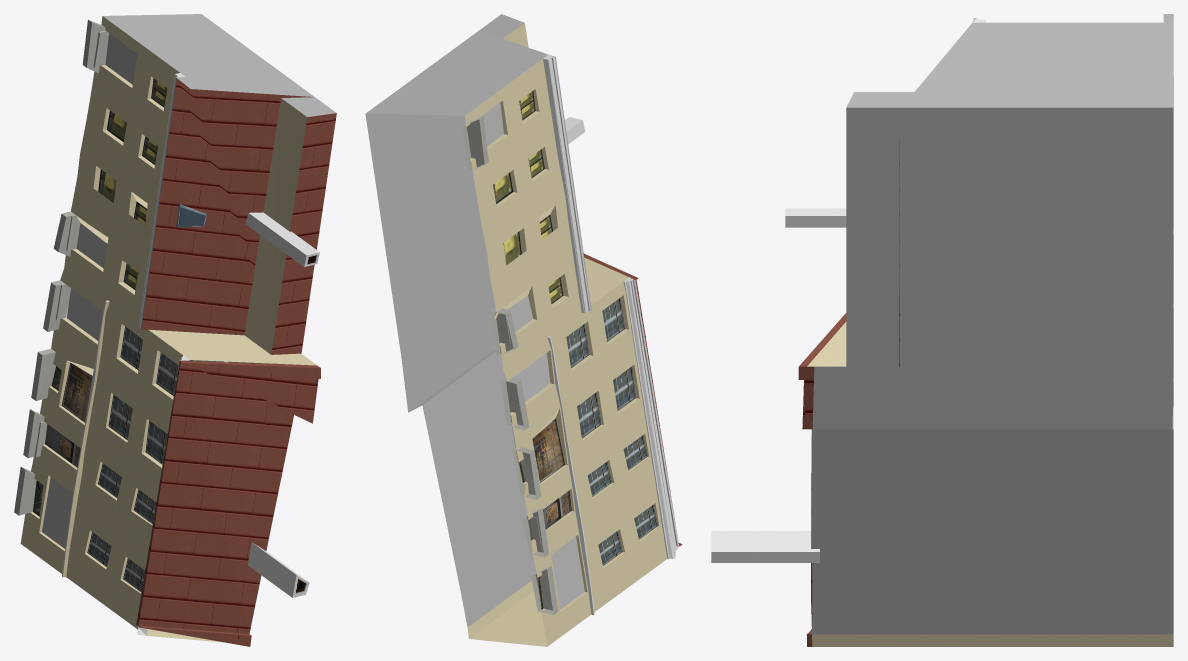
File: Myyrivahe_36-origo.obj
The picture shows the model from 3 angles, left to right: view 1: azimuth 30°, elevation 25°; view 2: azimuth 150°, elevation 25°; view 3: azimuth 270°, elevation 25°; orthographic projection. The views are drawn at different scales.
Parts seen in each view (by area): view 1: myyrivahe36, xxx; view 2: myyrivahe36, xxx; view 3: xxx, myyrivahe36.
Part boxes in pixels (x1=…): myyrivahe36: x1=14, y1=16, x2=336, y2=646; xxx: x1=103, y1=14, x2=336, y2=627; myyrivahe36: x1=462, y1=23, x2=682, y2=646; xxx: x1=365, y1=14, x2=548, y2=627; xxx: x1=811, y1=22, x2=1173, y2=634; myyrivahe36: x1=711, y1=14, x2=1173, y2=646.
Size of the model in its own units: 8.94 by 23.5 by 15.71.
